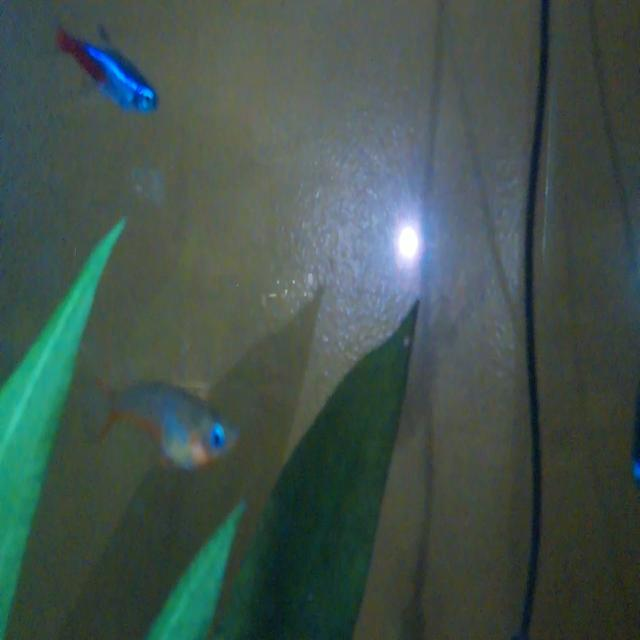fish: (86, 362, 247, 476), (48, 10, 164, 126)
